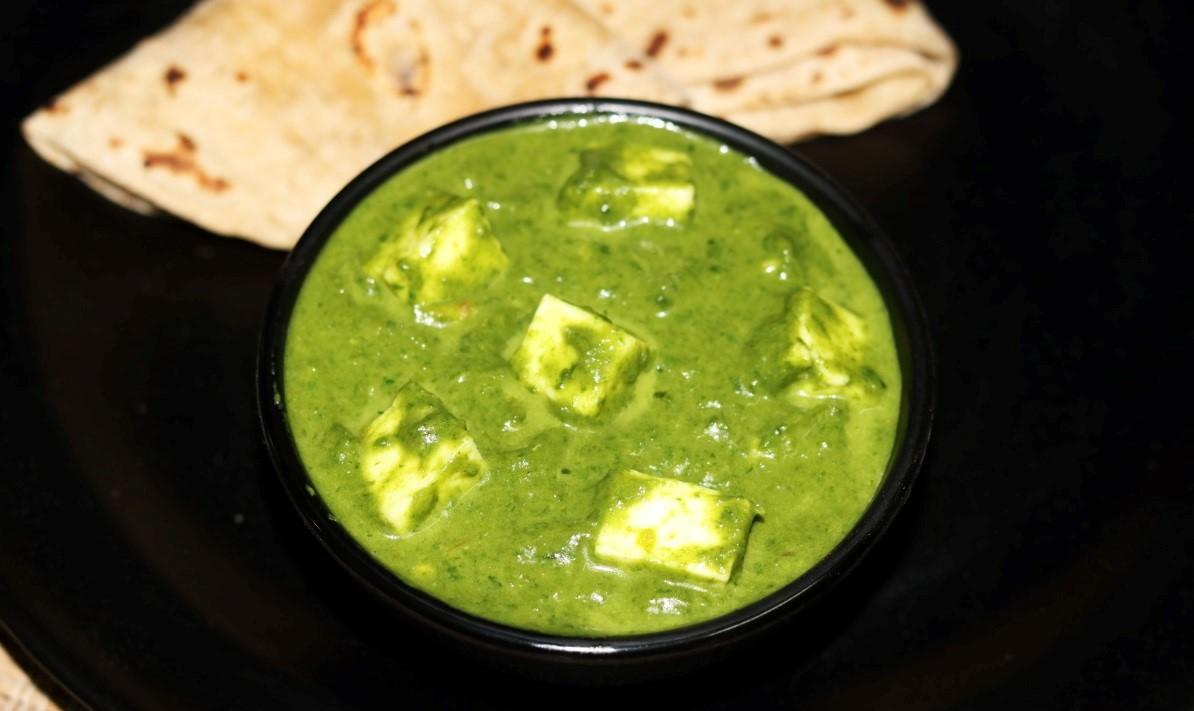PalakPaneer: (281, 110, 902, 637)
